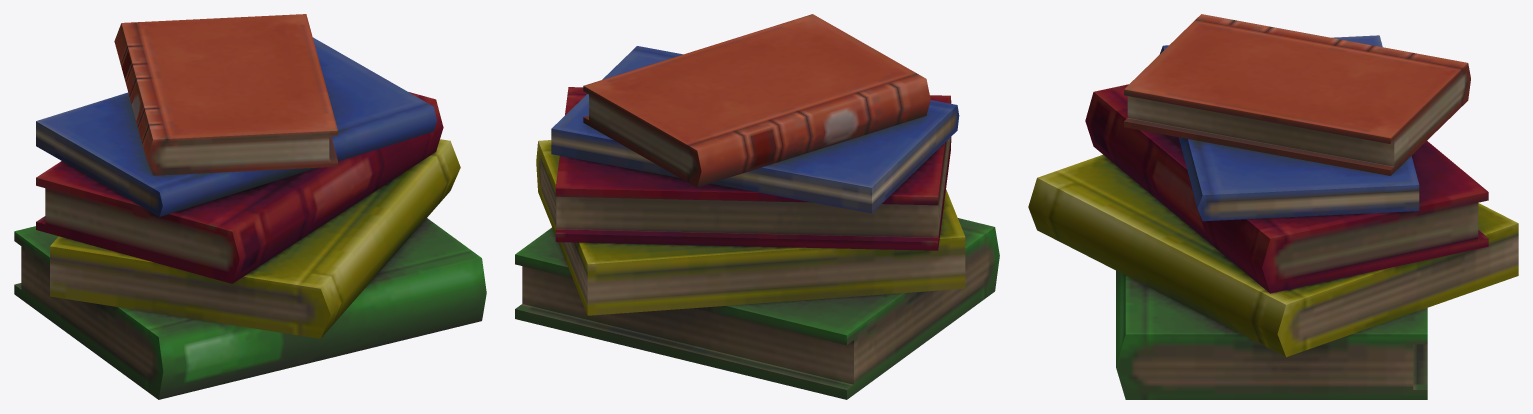
File: MontonDeLibrosEuridiciones_textura.fbx
3 views of the same model, side by side, from view 1: azimuth 30°, elevation 25°; view 2: azimuth 150°, elevation 25°; view 3: azimuth 270°, elevation 25° (orthographic). The views are drawn at different scales.
Parts seen in each view (by area): view 1: s4studio_mesh_1; view 2: s4studio_mesh_1; view 3: s4studio_mesh_1.
Boxes of the visible parts, left/top/right/bottom form: s4studio_mesh_1: left=14, top=14, right=486, bottom=399; s4studio_mesh_1: left=515, top=14, right=999, bottom=399; s4studio_mesh_1: left=1028, top=14, right=1518, bottom=399.
Size of the model in its own units: 45.05 by 23.49 by 44.14.
Materials: 1 (1 with a texture image).
